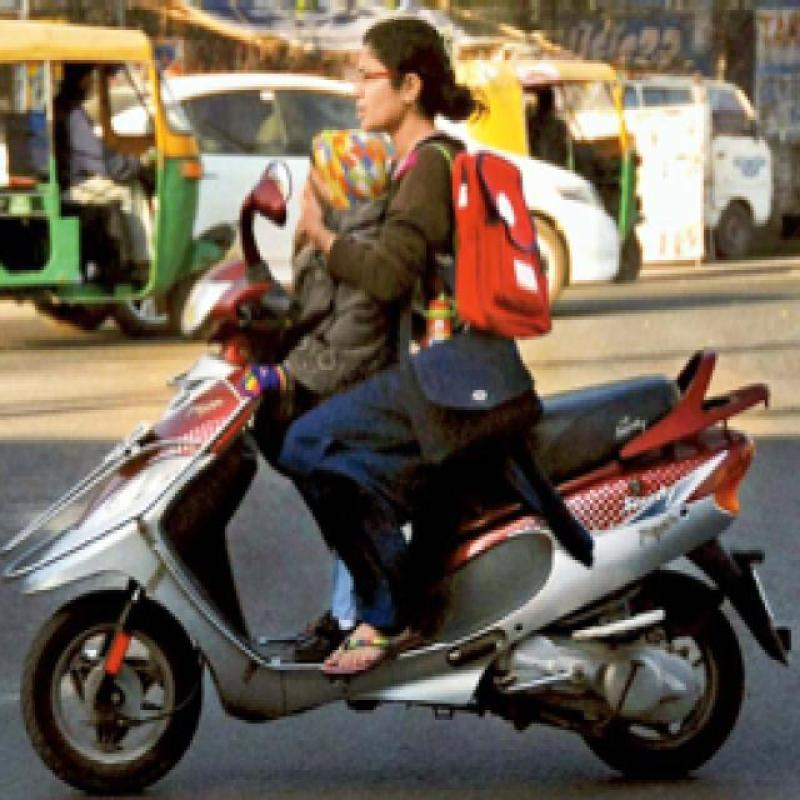nohelmet: (346, 16, 440, 146)
